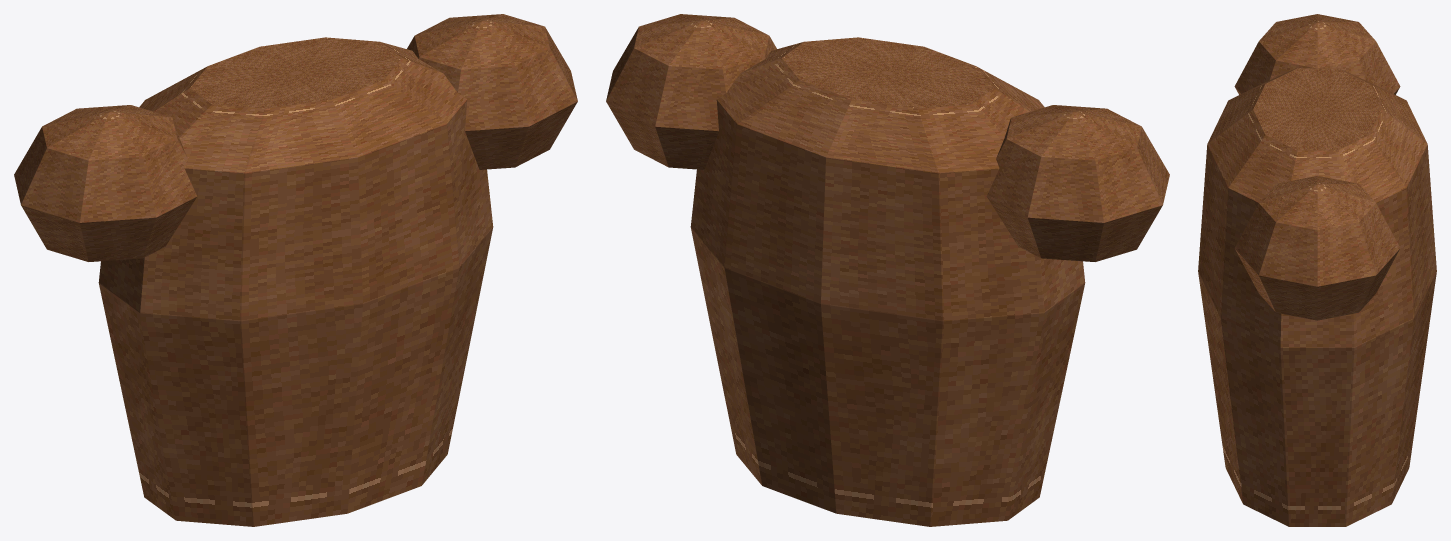
The model's file is peitoral_de_couro.glb.
The picture shows the model from 3 angles, left to right: view 1: azimuth 30°, elevation 25°; view 2: azimuth 150°, elevation 25°; view 3: azimuth 270°, elevation 25°; orthographic projection. The views are drawn at different scales.
Parts seen in each view (by area): view 1: peitoral_de_couro; view 2: peitoral_de_couro; view 3: peitoral_de_couro.
Part boxes in pixels (x1,y1,x2,y2): peitoral_de_couro: (14, 14, 577, 526); peitoral_de_couro: (606, 14, 1169, 526); peitoral_de_couro: (1198, 14, 1436, 526).
Bounding box in the file's own units: 0.886 × 0.6305 × 0.3744.
Materials: 1 (1 with a texture image).
